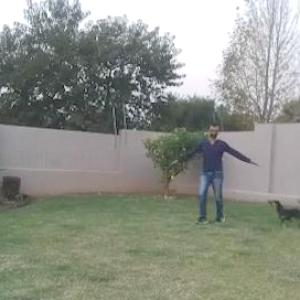land: (168, 117, 252, 217)
